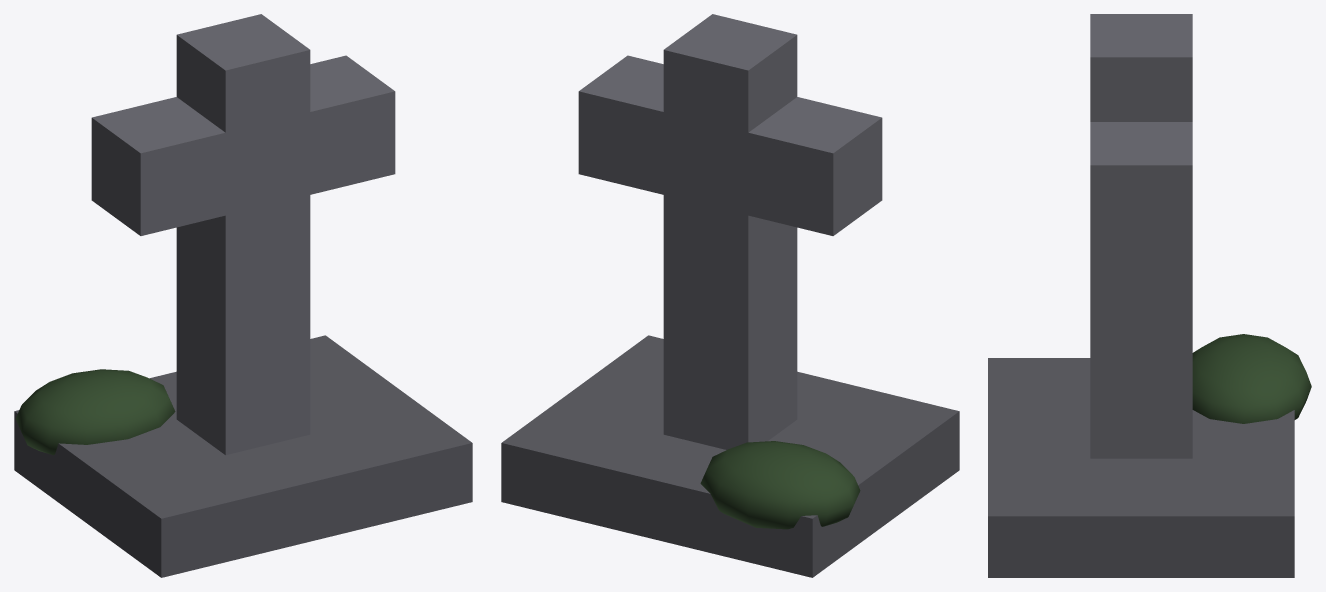
Rendered from deco_cross_lite.glb.
3 views of the same model, side by side, from view 1: azimuth 30°, elevation 25°; view 2: azimuth 150°, elevation 25°; view 3: azimuth 270°, elevation 25° (orthographic). The views are drawn at different scales.
Visible parts, largest first — view 1: Cube; view 2: Cube; view 3: Cube.
Boxes of the visible parts, box(x1,y1,x2,y2) form: Cube: box(14, 14, 472, 577); Cube: box(501, 14, 959, 577); Cube: box(988, 14, 1311, 577).
Size of the model in its own units: 1.16 by 1.5 by 0.95.
